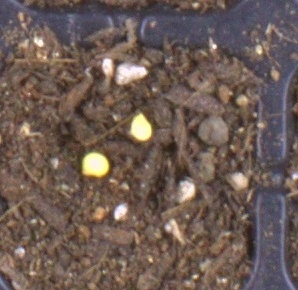chilli seed: (81, 151, 110, 177), (129, 112, 152, 141)
